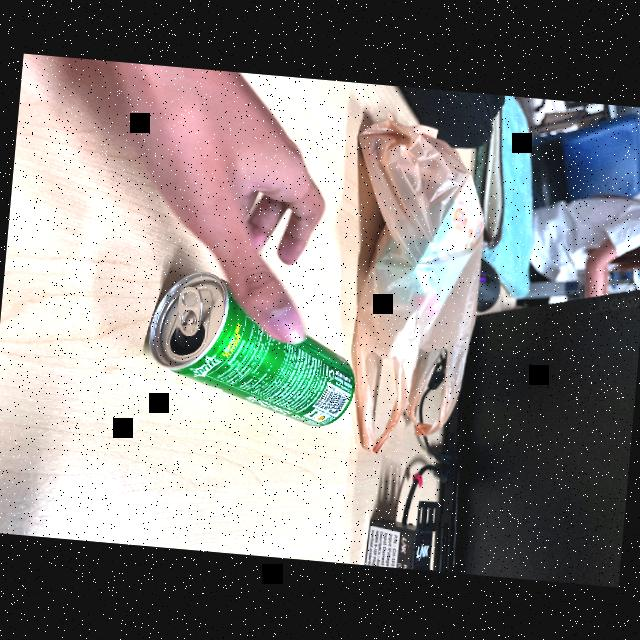can: (137, 256, 366, 444)
